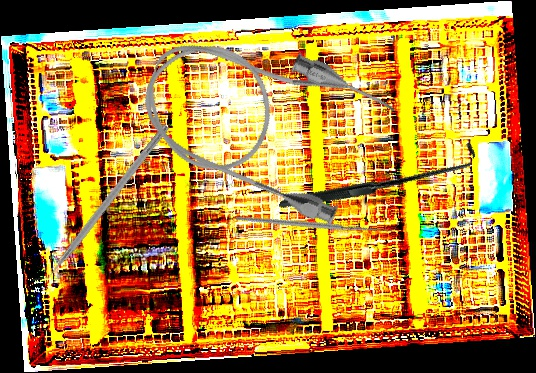Cannula: (124, 4, 401, 233)
Chopper: (28, 116, 171, 291)
Hook Surgical: (278, 77, 480, 277), (234, 144, 400, 299)
